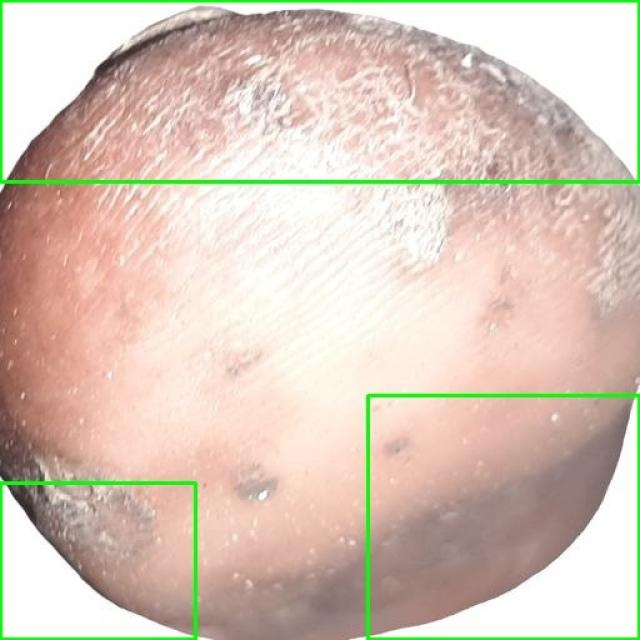Contact Dermatitis: (0, 0, 639, 181), (368, 395, 639, 639), (0, 482, 195, 639)
